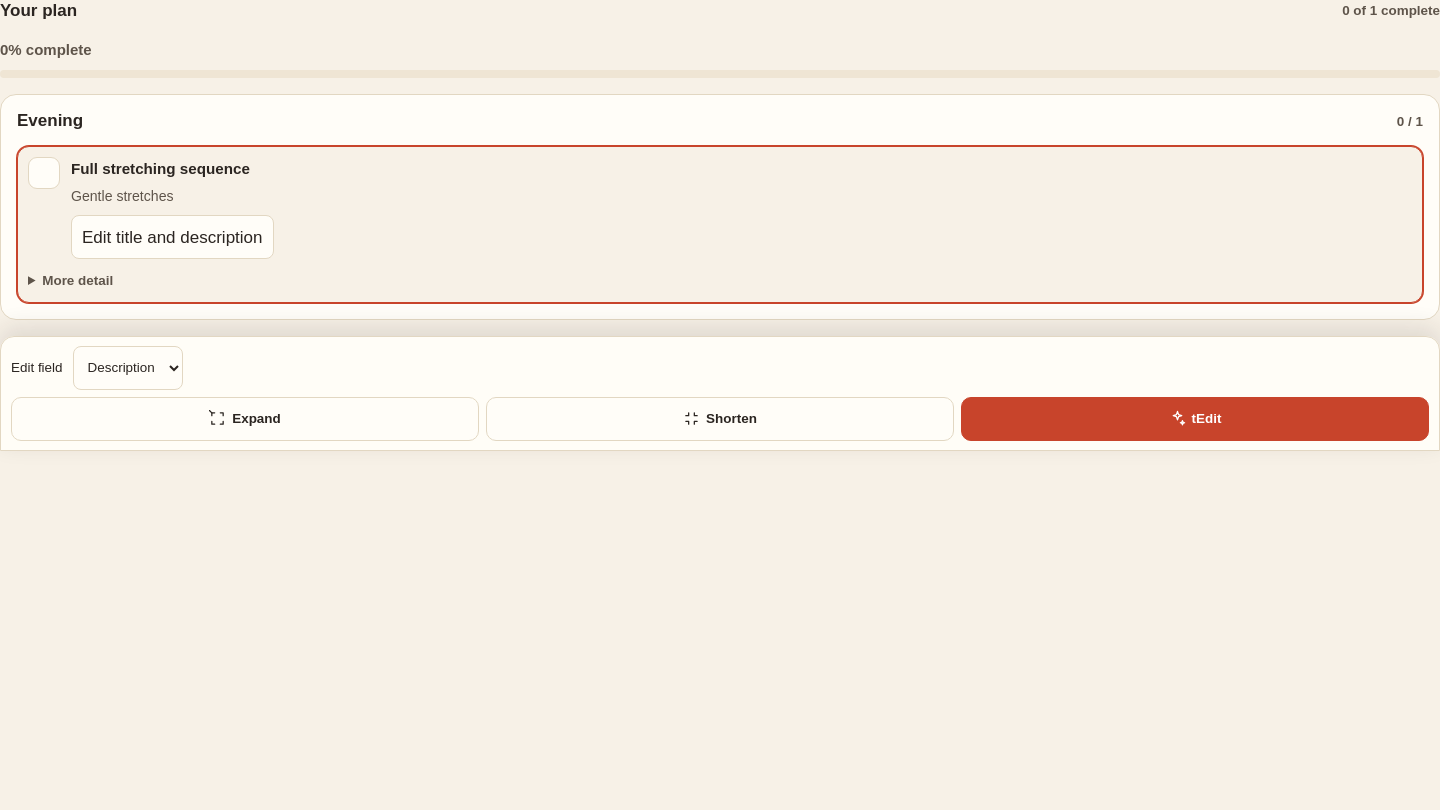
Test: action step title and description editing › keeps the draft and review on an unsuccessful save
The image size is (1440, 810).
Click the button "Shorten": (720, 419) [486,397,954,441]
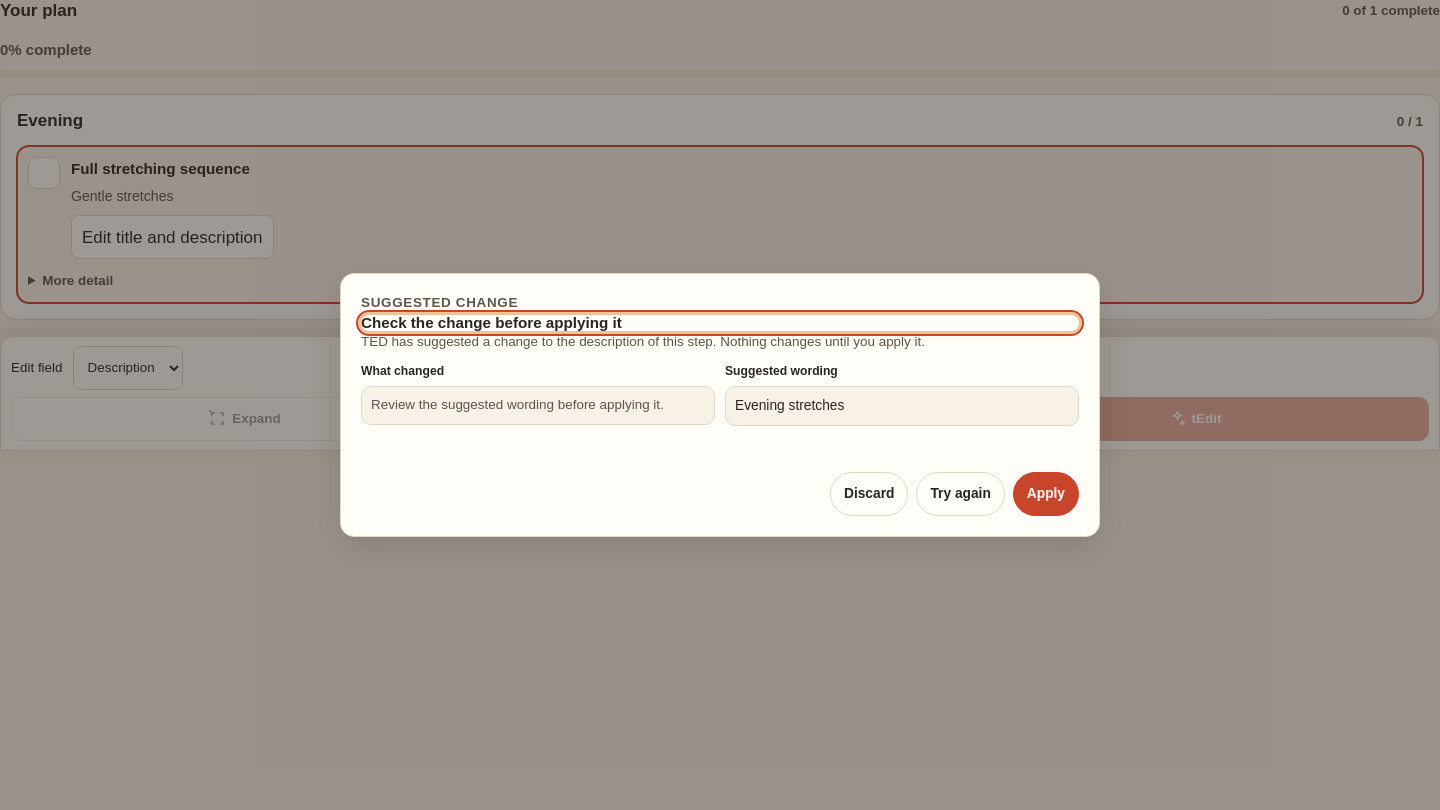
Click the button "Apply": (1046, 494) [1013,472,1079,516]
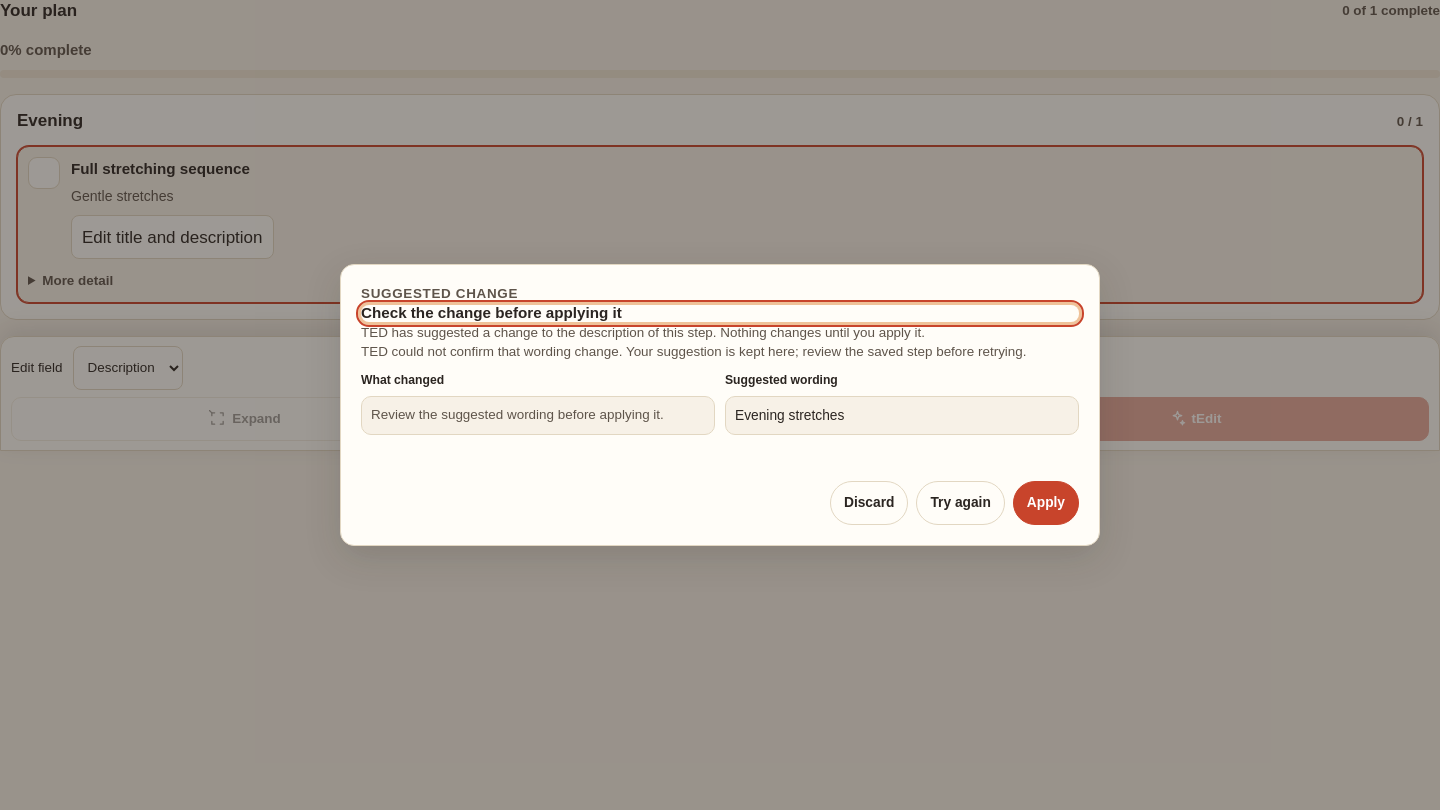
Expected: the text "Gentle stretches" is shown, [71,188,174,204]
Now the button "Apply" is shown, box [1013,481,1079,525]
Now the message shows "could not confirm", box [361,344,1026,359]
